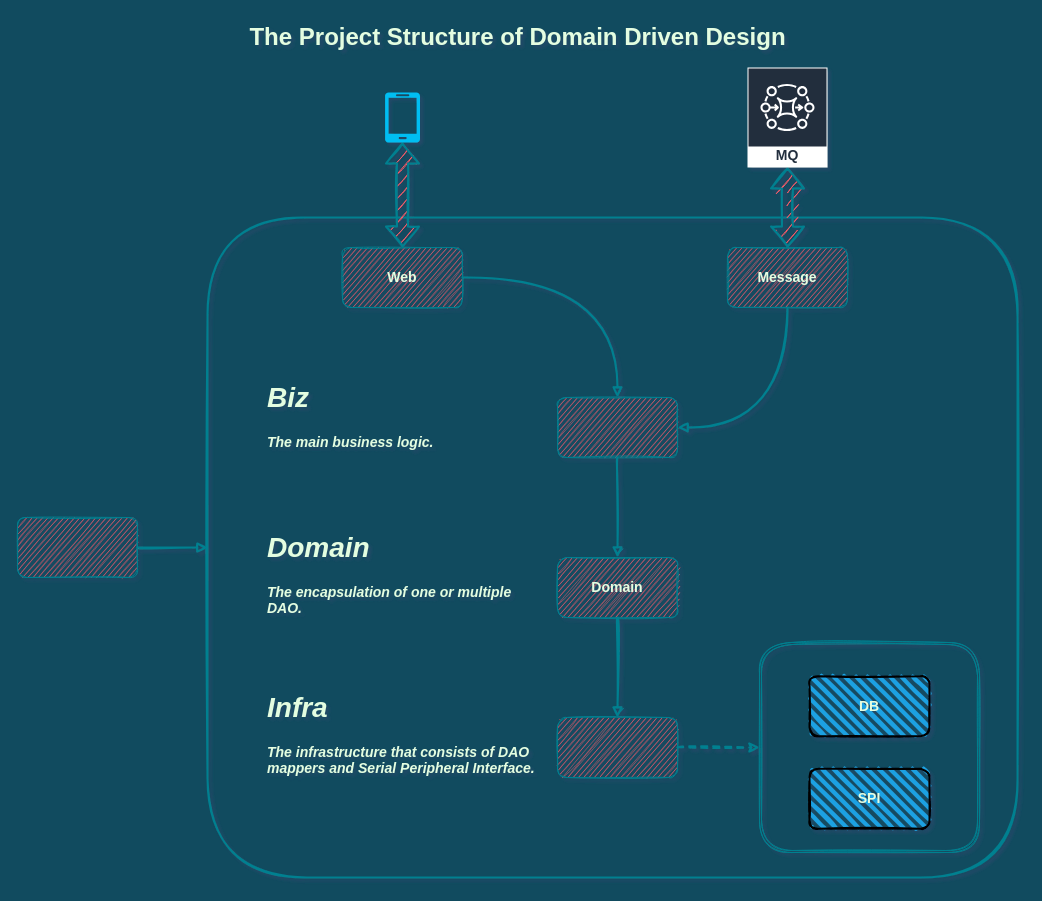
Some shapes in this 1042 by 901 pixel diagram are drawn without their labels. The centre of each missing label's shape, as x and y in pixels:
"Biz" goes at pixel 617 427.
"Bootstrap" goes at pixel 77 547.
"Infra" goes at pixel 617 747.
